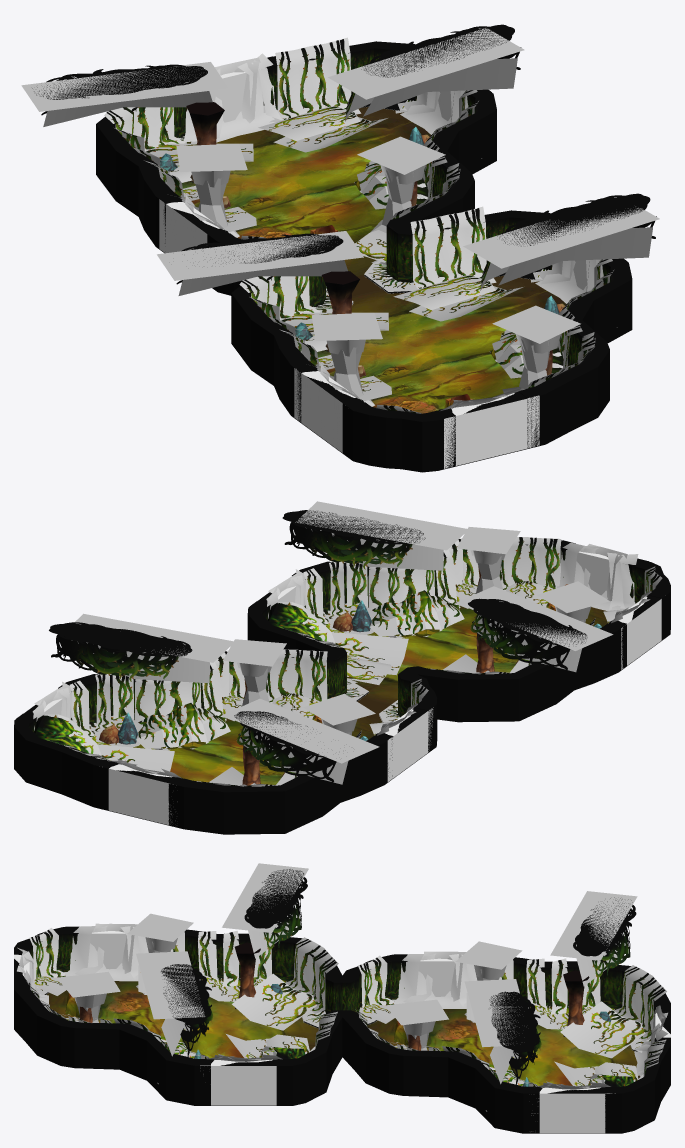
Rendered from Dungeon_021_QuestBossRoom.fbx.
The picture shows the model from 3 angles, top to bottom: view 1: azimuth 30°, elevation 25°; view 2: azimuth 150°, elevation 25°; view 3: azimuth 270°, elevation 25°; orthographic projection. The views are drawn at different scales.
Parts seen in each view (by area): view 1: Dungeon_021_Object_025 (×4), Dun_021_Room_003_wall (×4), Dun_021_Room_003_ground (×4), Dungeon_021_Object_021 (×4), DoorWay_NavMask (1) (×3), Dungeon_021_Object_024 (×4), un_021_Door_002_Object1 (×3), Dungeon_021_Object_012 (×2), Dungeon_021_Object_010 (×2), Dungeon_021_Object_022 (×2), Dungeon_011_Object_010 (×2), un_021_Door_002 (×3) (+4 smaller); view 2: Dungeon_021_Object_025 (×4), Dun_021_Room_003_wall (×4), Dungeon_021_Object_021 (×4), Dun_021_Room_003_ground (×2), Dungeon_021_Object_024 (×4), Dungeon_021_Object_016 (×4), DoorWay_NavMask (1) (×3), Dungeon_021_Object_022 (×4), un_021_Door_002_Object1 (×3), Dungeon_021_Object_010 (×2), Dungeon_021_Object_012 (×2), un_021_Door_002 (×3) (+3 smaller); view 3: Dun_021_Room_003_wall (×4), Dungeon_021_Object_025 (×4), Dungeon_021_Object_021 (×4), Dun_021_Room_003_ground (×3), Dungeon_021_Object_022 (×4), un_021_Door_002_Object1 (×4), DoorWay_NavMask (1) (×2), Dungeon_021_Object_024 (×4), Dungeon_021_Object_010 (×2), Dungeon_021_Object_012 (×2), DoorWay_NavMask (×2), Dungeon_011_Object_010 (×2) (+1 smaller).
Boxes of the visible parts, x1,y1,x2,y2 form: Dungeon_021_Object_025 (×4): [21, 24, 659, 295]; Dun_021_Room_003_wall (×4): [96, 41, 632, 472]; Dun_021_Room_003_ground (×4): [174, 107, 566, 413]; Dungeon_021_Object_021 (×4): [104, 37, 614, 413]; DoorWay_NavMask (1) (×3): [159, 199, 539, 468]; Dungeon_021_Object_024 (×4): [258, 92, 550, 321]; un_021_Door_002_Object1 (×3): [183, 53, 603, 303]; Dungeon_021_Object_012 (×2): [176, 143, 382, 356]; Dungeon_021_Object_010 (×2): [357, 136, 580, 353]; Dungeon_021_Object_022 (×2): [144, 143, 617, 401]; Dungeon_011_Object_010 (×2): [186, 102, 359, 352]; un_021_Door_002 (×3): [157, 193, 542, 466]; Dungeon_021_Object_025 (×4): [49, 501, 613, 784]; Dun_021_Room_003_wall (×4): [14, 540, 670, 834]; Dungeon_021_Object_021 (×4): [56, 537, 662, 786]; Dun_021_Room_003_ground (×2): [133, 606, 607, 784]; Dungeon_021_Object_024 (×4): [34, 601, 408, 772]; Dungeon_021_Object_016 (×4): [136, 590, 464, 748]; DoorWay_NavMask (1) (×3): [108, 599, 661, 825]; Dungeon_021_Object_022 (×4): [91, 581, 627, 785]; un_021_Door_002_Object1 (×3): [32, 542, 638, 730]; Dungeon_021_Object_010 (×2): [223, 527, 520, 676]; Dungeon_021_Object_012 (×2): [303, 581, 609, 732]; un_021_Door_002 (×3): [96, 589, 668, 825]; Dun_021_Room_003_wall (×4): [14, 927, 670, 1133]; Dungeon_021_Object_025 (×4): [136, 863, 637, 1085]; Dungeon_021_Object_021 (×4): [26, 928, 666, 1086]; Dun_021_Room_003_ground (×3): [46, 981, 640, 1085]; Dungeon_021_Object_022 (×4): [34, 965, 645, 1111]; un_021_Door_002_Object1 (×4): [17, 923, 668, 1076]; DoorWay_NavMask (1) (×2): [200, 1061, 615, 1133]; Dungeon_021_Object_024 (×4): [226, 1034, 638, 1086]; Dungeon_021_Object_010 (×2): [57, 971, 448, 1035]; Dungeon_021_Object_012 (×2): [127, 913, 522, 979]; DoorWay_NavMask (×2): [90, 931, 455, 996]; Dungeon_011_Object_010 (×2): [234, 942, 589, 1036].
Size of what is drawn, in the model's own units: 21.47 by 4.55 by 30.
